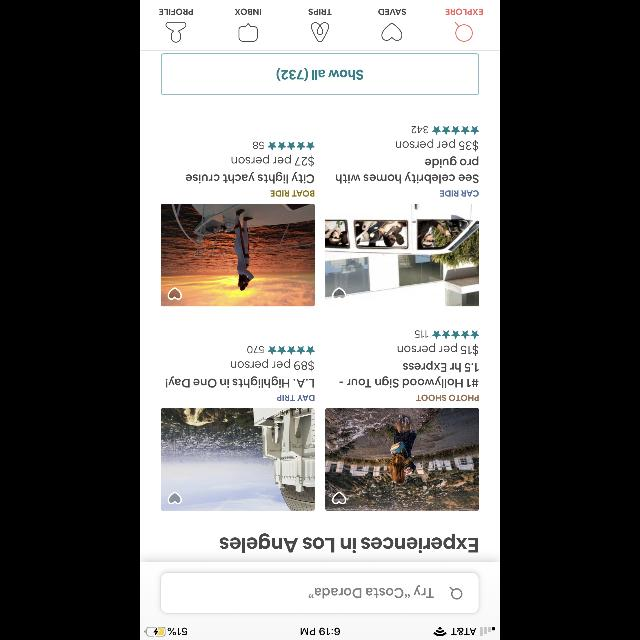icon: (432, 330, 478, 340), (166, 22, 186, 42), (268, 142, 314, 150), (432, 126, 478, 134), (268, 346, 314, 354), (238, 23, 258, 41), (382, 23, 402, 41), (455, 22, 473, 42), (332, 287, 346, 299), (168, 287, 182, 299), (168, 492, 182, 504), (332, 492, 346, 504), (450, 586, 462, 600)
image: (162, 204, 314, 306), (326, 204, 478, 306), (162, 408, 314, 510), (326, 408, 478, 510), (311, 22, 329, 42)
input: (161, 572, 479, 614)
text: (220, 533, 478, 553), (336, 172, 478, 184), (339, 376, 478, 388), (166, 377, 314, 388), (186, 172, 314, 184), (308, 586, 434, 598), (230, 358, 314, 372), (232, 154, 314, 168), (396, 138, 478, 152), (398, 342, 478, 356), (403, 360, 479, 372), (426, 156, 478, 168), (416, 395, 478, 401), (270, 191, 314, 197), (440, 190, 478, 196), (446, 9, 482, 15), (278, 395, 314, 401), (160, 9, 192, 15), (378, 9, 406, 15), (235, 9, 261, 15), (308, 9, 332, 15), (412, 126, 428, 134), (247, 346, 263, 354), (414, 330, 428, 338), (252, 142, 264, 148)
textbutton: (162, 54, 478, 94)
uppertaskbar: (140, 626, 500, 640)
